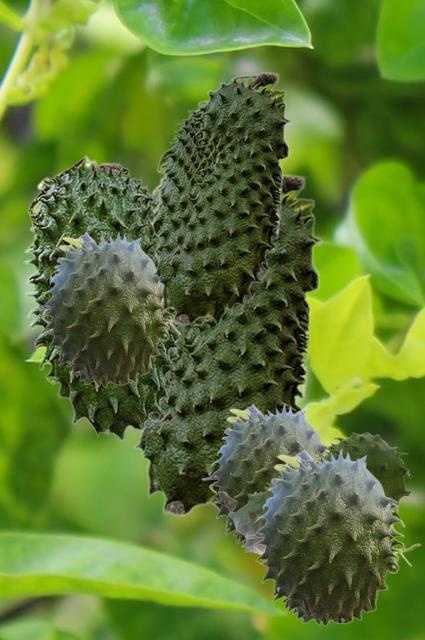guyabano: (132, 173, 321, 516), (23, 154, 182, 440), (150, 71, 290, 325), (244, 447, 420, 626), (218, 432, 411, 554), (33, 230, 181, 387), (201, 402, 326, 553)
